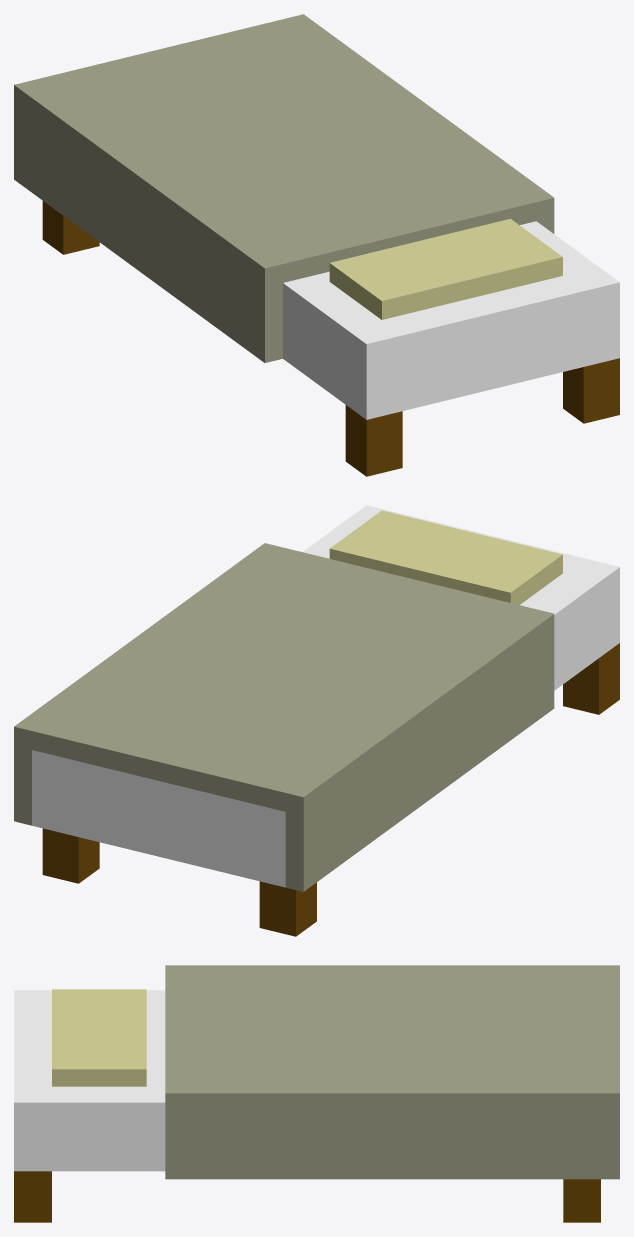
File: bed.obj
The picture shows the model from 3 angles, top to bottom: view 1: azimuth 30°, elevation 25°; view 2: azimuth 150°, elevation 25°; view 3: azimuth 270°, elevation 25°; orthographic projection. The views are drawn at different scales.
Bounding box in the file's own units: 16 × 8 × 32.
Materials: 1 (1 with a texture image).
